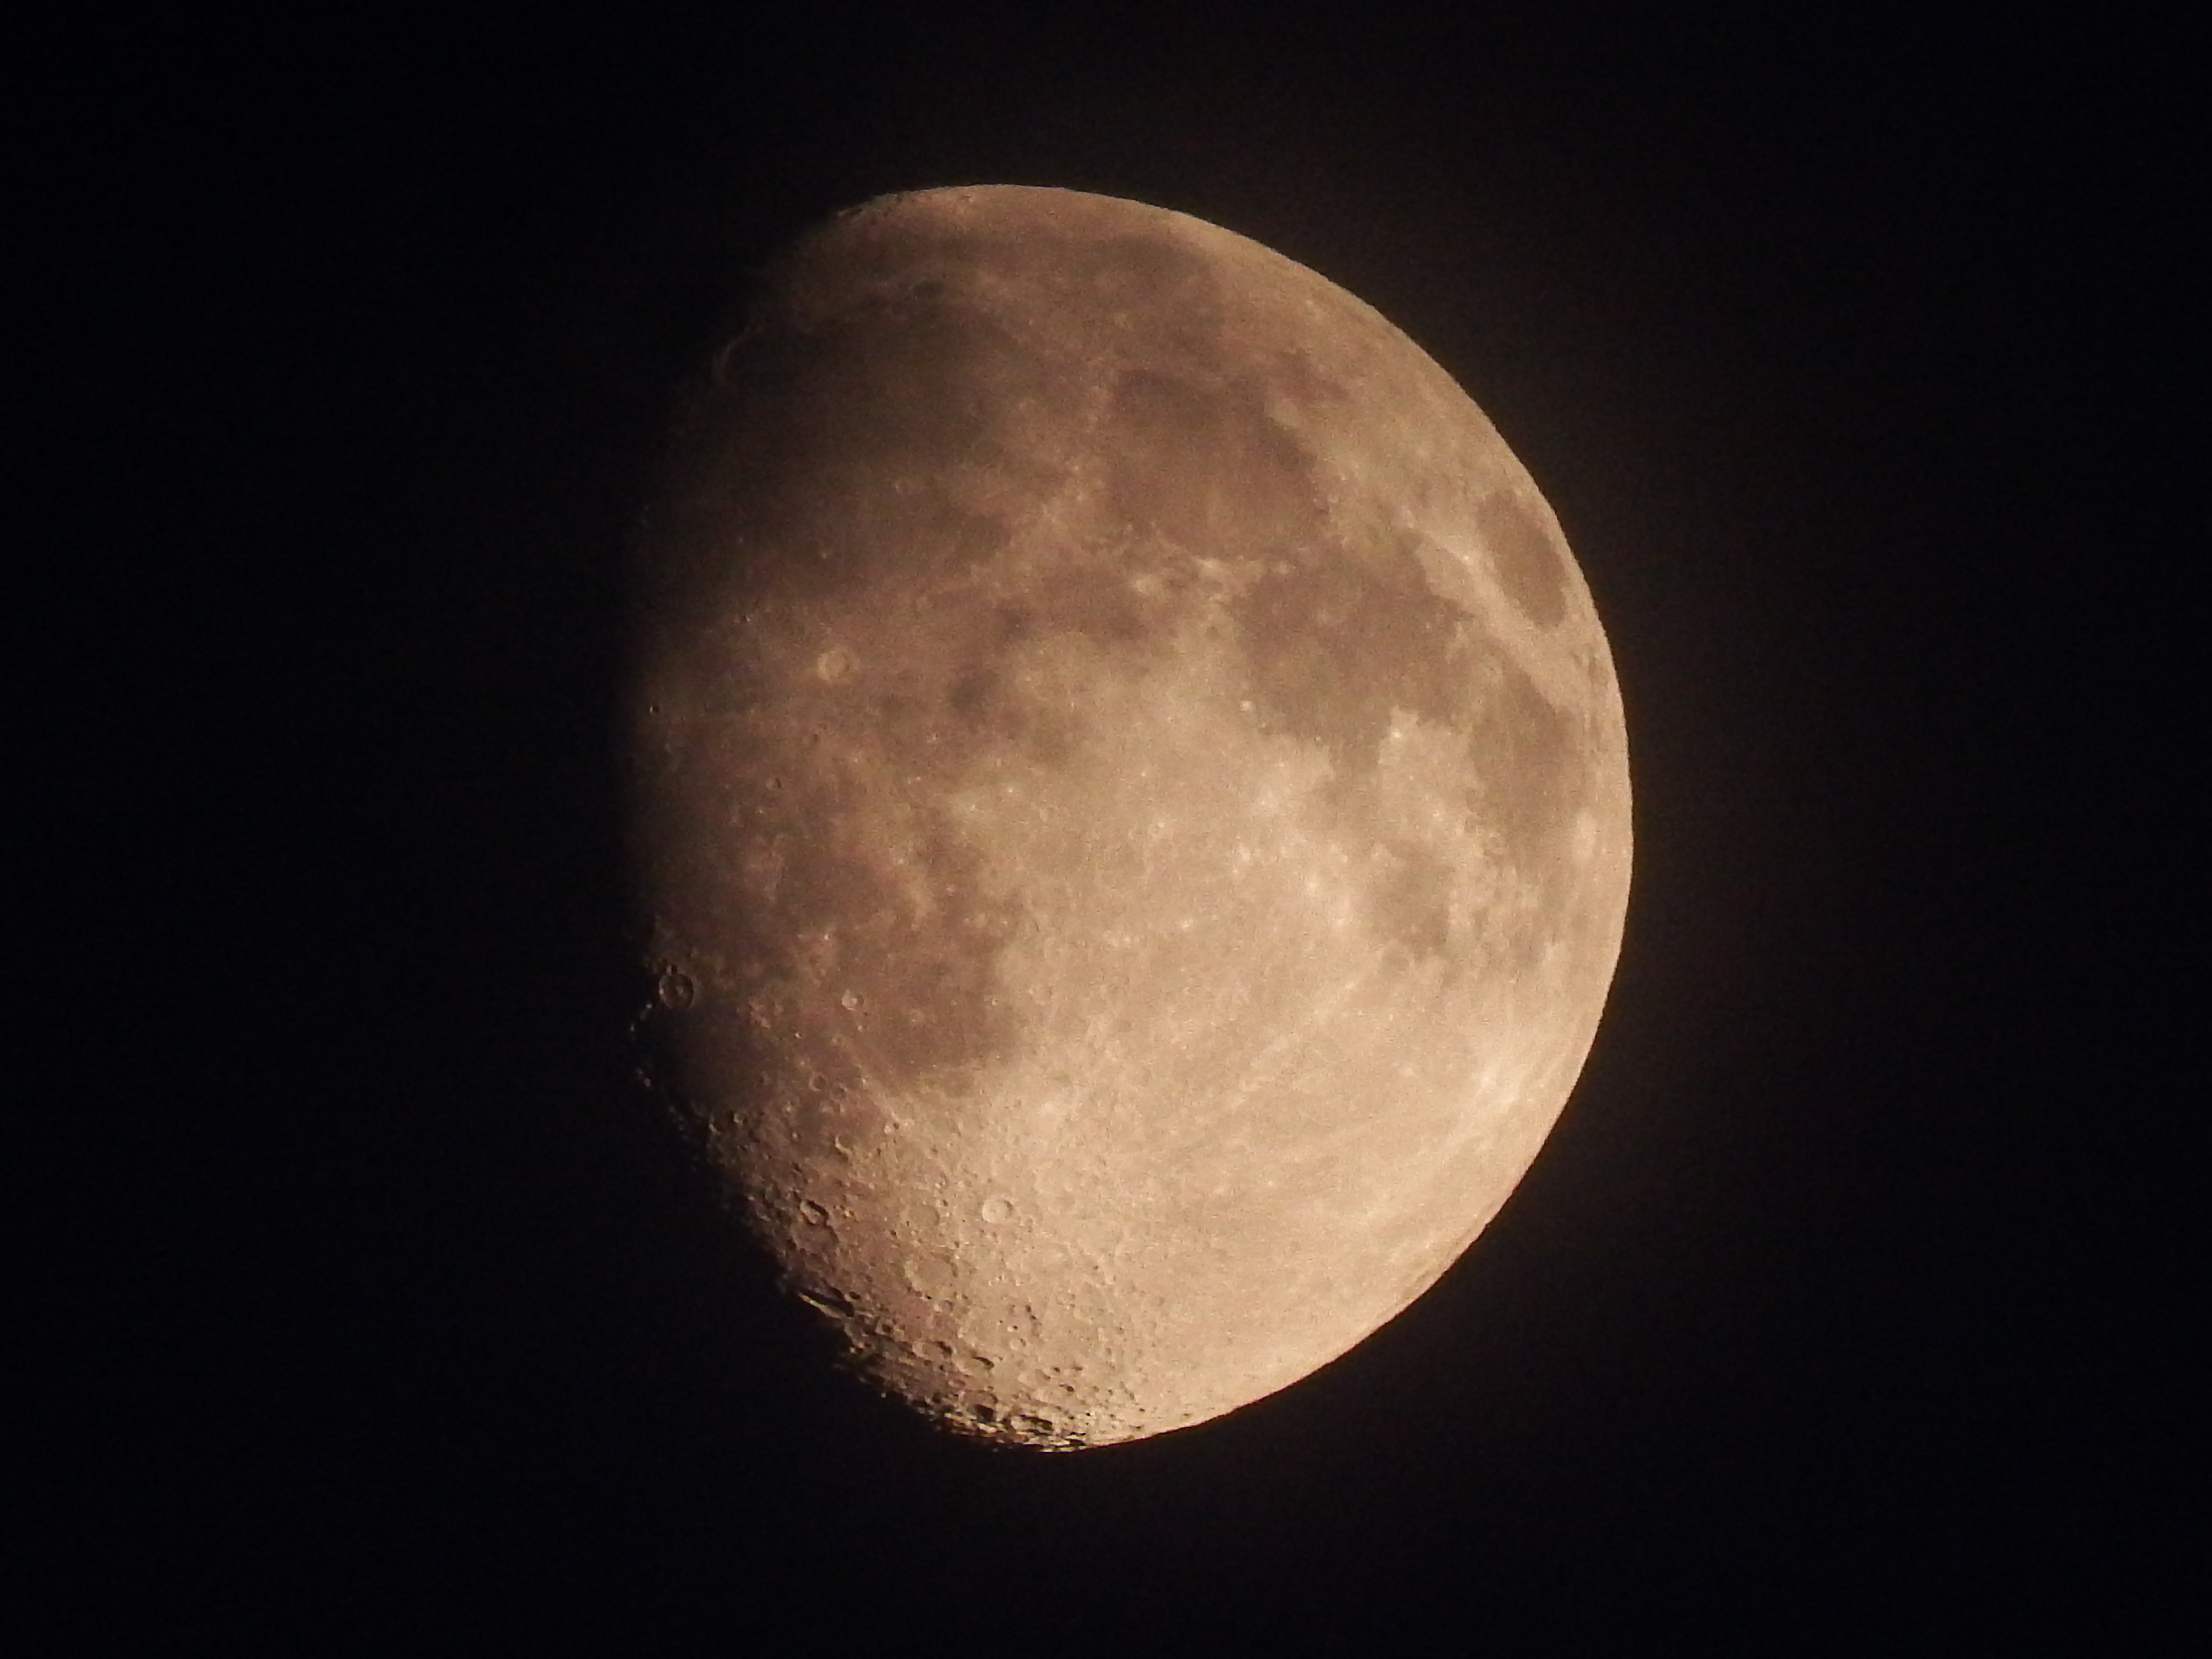crater: (768, 612, 916, 735), (949, 1188, 1036, 1251), (784, 1178, 848, 1243), (948, 1345, 1019, 1399), (822, 972, 888, 1030), (902, 1326, 963, 1373), (897, 270, 949, 307)
